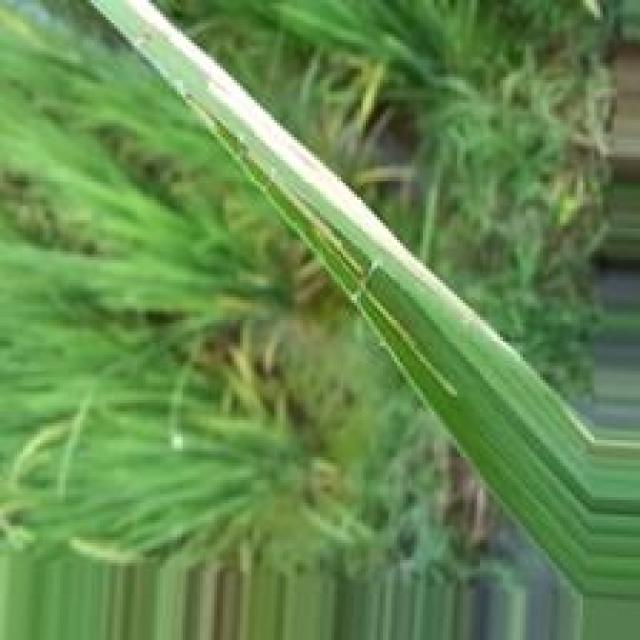Rice_Hispa: (115, 0, 496, 330)
